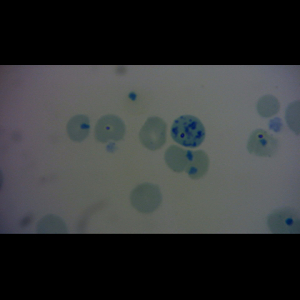aggregate reticulocyte: (170, 114, 206, 148)
erythrocyte: (128, 182, 163, 214), (246, 127, 281, 159), (91, 114, 127, 144), (163, 144, 194, 173), (65, 114, 92, 143), (186, 148, 210, 180), (254, 93, 283, 119)
punctate reticulocyte: (138, 116, 168, 151)
